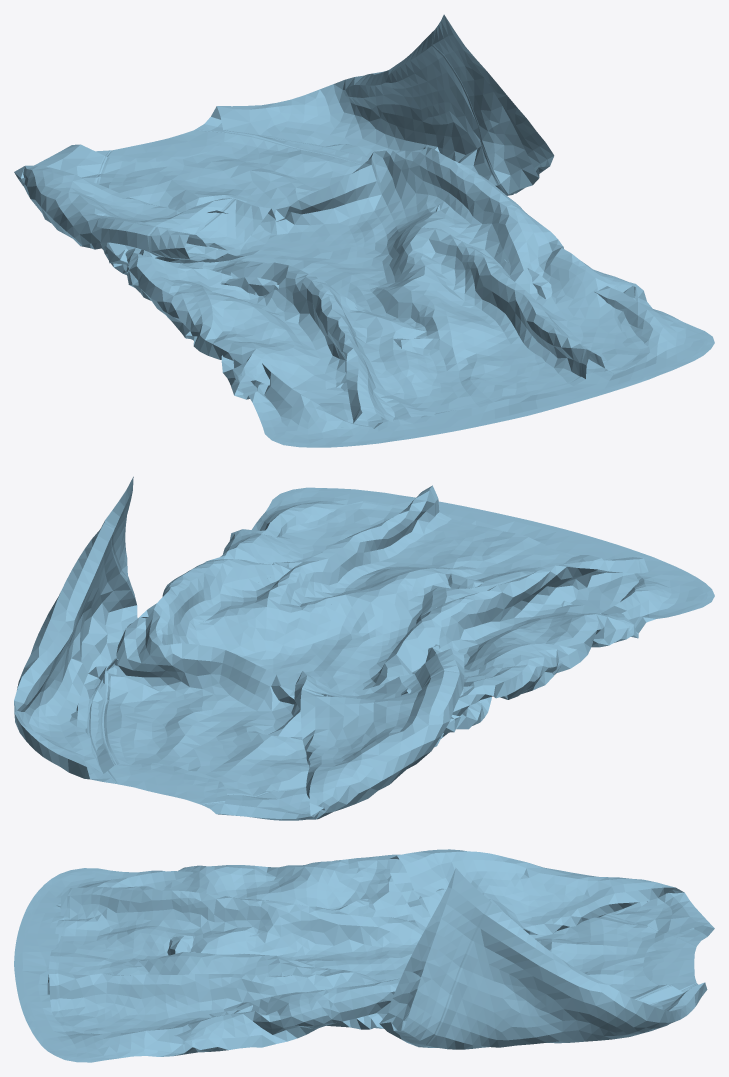
File: frame_10.glb
3 views of the same model, one above another, from view 1: azimuth 30°, elevation 25°; view 2: azimuth 150°, elevation 25°; view 3: azimuth 270°, elevation 25° (orthographic). The views are drawn at different scales.
Parts seen in each view (by area): view 1: frame_10.obj; view 2: frame_10.obj; view 3: frame_10.obj.
Part boxes in pixels (x1=…): frame_10.obj: x1=14, y1=14, x2=714, y2=447; frame_10.obj: x1=14, y1=476, x2=714, y2=820; frame_10.obj: x1=14, y1=849, x2=714, y2=1062.
Bounding box in the file's own units: 1.24 × 0.5011 × 1.81.
